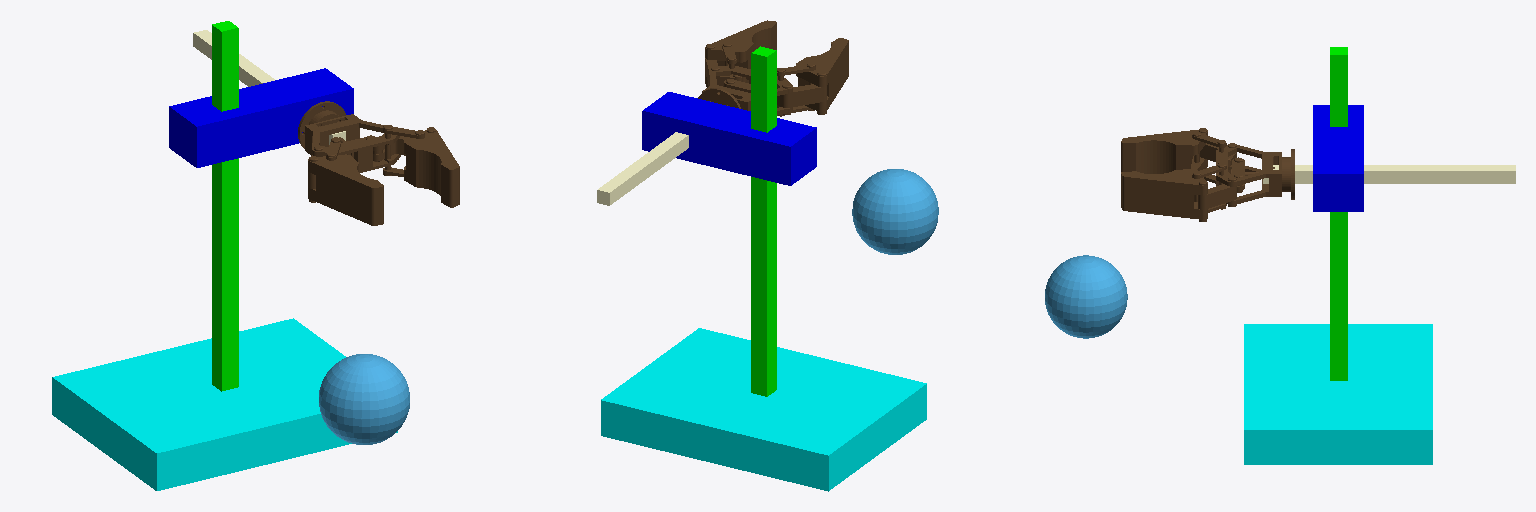
URDF robot description (MYROBOT):
<?xml version="1.0"?>
<robot name="MYROBOT">
<link name="world">
</link>
<link name="ball">
<inertial>
<mass value="1.0" />
<origin xyz="0 0 0" /> 
<inertia  ixx="1.0" ixy="0.0"  ixz="0.0"  iyy="1.0"  iyz="0.0"  izz="1.0" />
</inertial>
<visual>
<origin xyz="0 0 0" rpy="0 0 0" />
<geometry>
<sphere radius="0.33"/>
</geometry>
</visual>
</link>
<link name="base">
<visual>
<origin xyz="0 0 0" rpy="0 0 0"/>
<geometry>
<box size="2 1.5 0.3"/>
</geometry>
<material name="cyan">
<color rgba="0 1 1 1"/>
</material>
</visual>
<inertial>
<origin xyz="0 0 0" rpy="0 0 0" />
<mass value ="10"/>
<inertia ixx="100" ixy="0" ixz="0" iyy="100" iyz="0" izz="100"/>
</inertial>
</link>
<link name="vertical_axis">
<visual>
<origin xyz="0 0 0" rpy="0 0 0" />
<geometry>
<box size="0.14 0.14 3"/>
</geometry>
<material name="green">
<color rgba="0 1 0 1"/>
</material>
</visual>
<inertial>
<origin xyz="0 0 0" rpy="0 0 0"/>
<mass value ="5"/>
<inertia ixx="100" ixy="0" ixz="0" iyy="100" iyz="0" izz="100"/>
</inertial>
</link>
<link name="block">
<visual>
<origin xyz="0 0 0" rpy="0 0 0" />
<geometry>
<box size="1.3 0.4 0.33"/>
</geometry>
<material name="blue">
<color rgba="0 0 1 1"/>
</material>
</visual>
<inertial>
<origin xyz="0 0 0" rpy="0 0 0"/>
<mass value ="2"/>
<inertia ixx="100" ixy="0" ixz="0" iyy="100" iyz="0" izz="100"/>
</inertial>
</link>
<link name="horizontal_axis">
<visual>
<origin xyz="0 0 0" rpy="1.5708 1.5708 0" />
<geometry>
<box size="0.11 0.11 2"/>
</geometry>
<material name="yellow">
<color rgba="1 0.99 0.82 1"/>
</material>
</visual>
<inertial>
<origin xyz="0 0 0" rpy="0 0 0"/>
<mass value ="2"/>
<inertia ixx="100" ixy="0" ixz="0" iyy="100" iyz="0" izz="100"/>
</inertial>
</link>
<link name="gripper">
<visual>
<origin xyz="2.15 0 0.35" rpy="0 0 0"/>
<geometry>
<mesh filename="package://myrobot_description/meshes/gripper.STL" scale = "0.005 0.005 0.005"/>
</geometry>
<material name="random">
<color rgba="0.4 0.3 0.2 1"/>
</material>
</visual>
<inertial>
<origin xyz="0 0 0" rpy="0 0 0"/>
<mass value ="1"/>
<inertia ixx="100" ixy="0" ixz="0" iyy="100" iyz="0" izz="100"/>
</inertial>
</link>
<joint name="immovable_connection" type="fixed">
<parent link="world"/>
<child link="base"/>
<origin xyz="0 0 0.15" rpy="0 0 0" />
<axis xyz="0 0 0"/>
<limit lower="0" upper="0" effort="0" velocity="0"/>
</joint>
<joint name="vertical_axis_movement" type="prismatic">
<parent link="base"/>
<child link="vertical_axis"/>
<origin xyz="0 0 1.5" rpy="0 0 0" />
<axis xyz="1 0 0"/>
<limit lower="-0.88" upper="0.88" effort="1000" velocity="0.5"/>
</joint>
<joint name="vertical_block_movement" type="prismatic">
<parent link="vertical_axis"/>
<child link="block"/>
<origin xyz="0.3 0 0.7" rpy="0 0 0" />
<axis xyz="0 0 1"/>
<limit lower="-1.635" upper="0.735" effort="1000" velocity="0.5"/>
</joint>
<joint name="horizontal_axis_movement" type="prismatic">
<parent link="block"/>
<child link="horizontal_axis"/>
<origin xyz="0.3 0.4 0" rpy="0 0 0" />
<axis xyz="0 1 0"/>
<limit lower="-1" upper="0" effort="1000" velocity="0.5"/>
</joint>
<joint name="gripper_connection" type="fixed">
<parent link="horizontal_axis"/>
<child link="gripper"/>
<origin xyz="-2.15 -0.4 0" rpy="1.5708 0 0" />
<axis xyz="0 0 0"/>
<limit lower="0" upper="0" effort="0" velocity="0"/>	
</joint>
<joint name="ball_connection" type="fixed">
<parent link="world" />
<child link="ball" />
<origin xyz="0 -2 1" rpy="0 0 0" />
<axis xyz="0 0 0" />
<limit lower="0" upper="0" effort="0" velocity="0" />
</joint>
</robot>

--- What the picture shows (computed from the rendered views, not written in the file) ---
Views: 3 orthographic renders of the robot side by side, from view 1: azimuth 30°, elevation 25°; view 2: azimuth 150°, elevation 25°; view 3: azimuth 270°, elevation 25°.
Model MYROBOT with 7 links and 6 joints (3 prismatic, 3 fixed), rooted at world, posed every joint at zero.
Links seen in each view (by area): view 1: base, gripper, block, vertical_axis, ball, horizontal_axis; view 2: base, block, vertical_axis, gripper, ball, horizontal_axis; view 3: base, gripper, ball, block, vertical_axis, horizontal_axis.
Link boxes in pixels (<box>): base: <box>52,318,397,490</box>; gripper: <box>298,101,459,225</box>; block: <box>169,68,353,167</box>; vertical_axis: <box>212,21,238,391</box>; ball: <box>319,354,409,444</box>; horizontal_axis: <box>193,30,345,144</box>; base: <box>601,328,926,491</box>; block: <box>642,92,816,185</box>; vertical_axis: <box>751,46,776,396</box>; gripper: <box>698,20,848,116</box>; ball: <box>852,169,938,254</box>; horizontal_axis: <box>597,132,688,205</box>; base: <box>1244,324,1432,464</box>; gripper: <box>1121,128,1294,221</box>; ball: <box>1045,255,1127,338</box>; block: <box>1313,105,1363,211</box>; vertical_axis: <box>1330,47,1347,380</box>; horizontal_axis: <box>1263,165,1515,183</box>.
Bounding box of the posed robot: 2.13 × 3.73 × 3.15 m (x, y, z).
Meshes: 1 distinct files referenced, 1 mesh visuals loaded (1 binary STL).